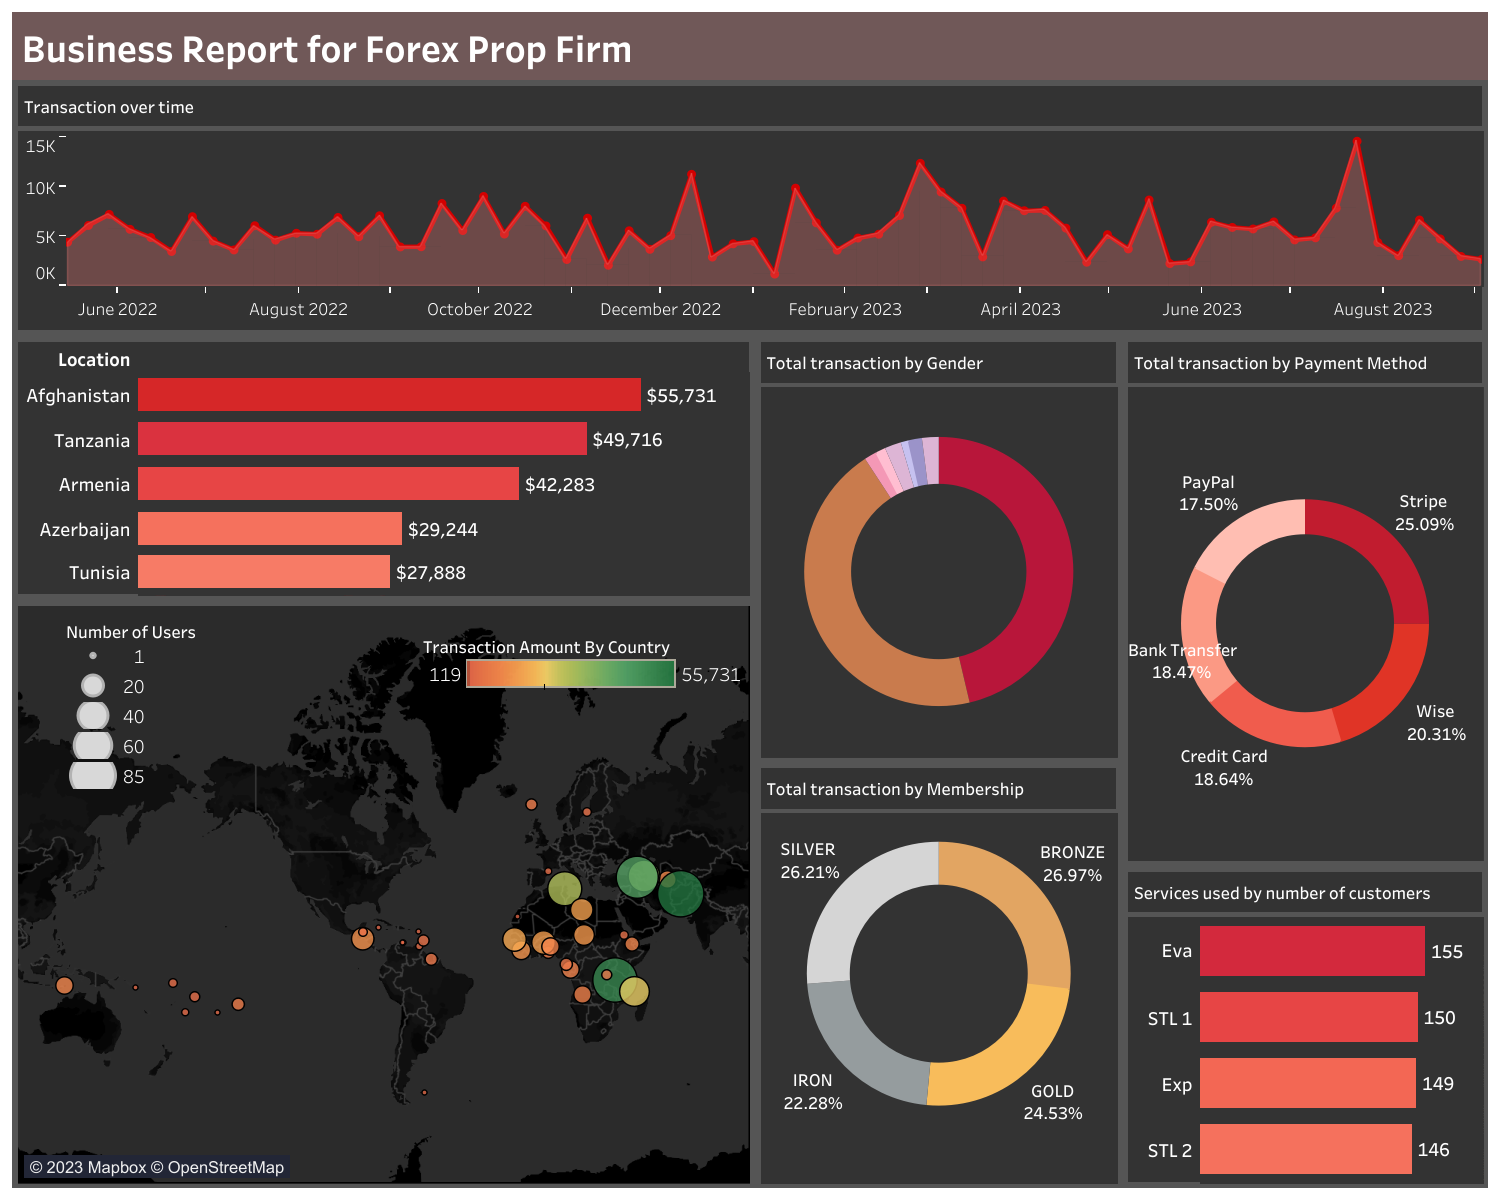

The page's visual inventory and layout, read from the dashboard file:
{"tool":"tableau","page":{"name":"Dashboard 1","canvas":[1000,800],"ordinal":0},"visuals":[{"type":"text","box":[8,8,984,45]},{"type":"worksheet","title":"Sheet 2","mark":"Automatic","rows":["Transaction Amount","Transaction Amount"],"cols":["Date of Transaction"],"box":[8,53,984,171]},{"type":"worksheet","title":"Sheet 4","mark":"Automatic","rows":["Location"],"cols":["Transaction Amount"],"box":[8,224,495,176]},{"type":"worksheet","title":"Sheet 1","mark":"Pie","rows":["Calculation_1261852338799890432","Calculation_1261852338799890432"],"box":[503,224,244.5,284]},{"type":"worksheet","title":"Sheet 6","mark":"Pie","rows":["Calculation_1261852338799890432","Calculation_1261852338799890432"],"box":[747.5,224,244.5,353]},{"type":"worksheet","title":"Sheet 3","mark":"Automatic","box":[8,400,495,392]},{"type":"legend","title":"Sheet 3","param":"[federated.18ky3ml1v0d44l1085o421b30rhs].[__tableau_internal_object_id__].[cnt:D","box":[43,411,137,142]},{"type":"legend","title":"Sheet 3","param":"[federated.18ky3ml1v0d44l1085o421b30rhs].[sum:Transaction Amount:qk]","box":[282,419,217,67]},{"type":"worksheet","title":"Sheet 5","mark":"Pie","rows":["Calculation_1261852338799890432","Calculation_1261852338799890432"],"box":[503,508,244.5,284]},{"type":"worksheet","title":"Sheet 7","mark":"Automatic","rows":["Service Used"],"cols":["Data_27D1DEA0B3D340869EAA6B7ADCE6FF4F"],"box":[747.5,577,244.5,215]}]}

Visuals, with their boxes in screenshot pixels (x1, y1, x2, y2), scaled from the page's 1000x800 canvas onto the 1499x1199 screenshot:
text: box=[12, 12, 1487, 79]
"Sheet 2" worksheet: box=[12, 79, 1487, 336]
"Sheet 4" worksheet: box=[12, 336, 754, 600]
"Sheet 1" worksheet (Pie marks): box=[754, 336, 1121, 761]
"Sheet 6" worksheet (Pie marks): box=[1121, 336, 1487, 865]
"Sheet 3" worksheet: box=[12, 600, 754, 1187]
"Sheet 3" legend: box=[64, 616, 270, 829]
"Sheet 3" legend: box=[423, 628, 748, 728]
"Sheet 5" worksheet (Pie marks): box=[754, 761, 1121, 1187]
"Sheet 7" worksheet: box=[1121, 865, 1487, 1187]
